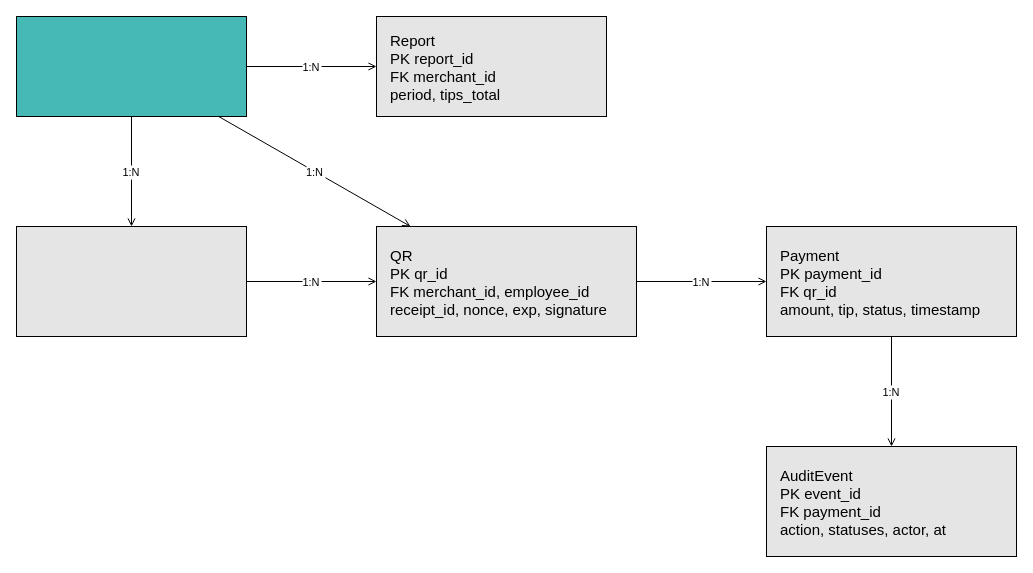
This 1033x573 diagram has some shape labels left out. Each missing label, with the centre of its shape:
"Employee PK employee_id FK merchant_id name, payment_details" goes at (x=131, y=281).
"Merchant PK merchant_id name, status, description" goes at (x=131, y=66).
